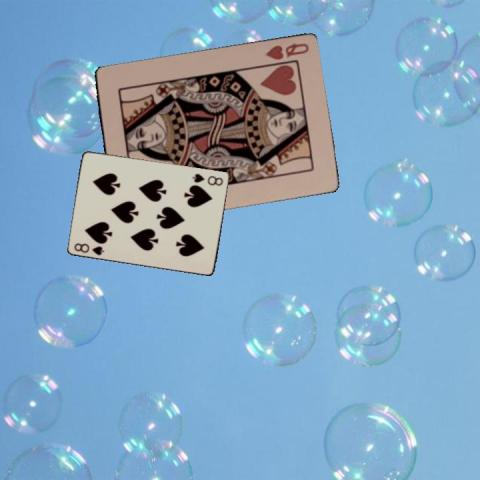8s: (189, 170, 225, 186), (72, 240, 106, 256)
Qh: (262, 41, 310, 61)
